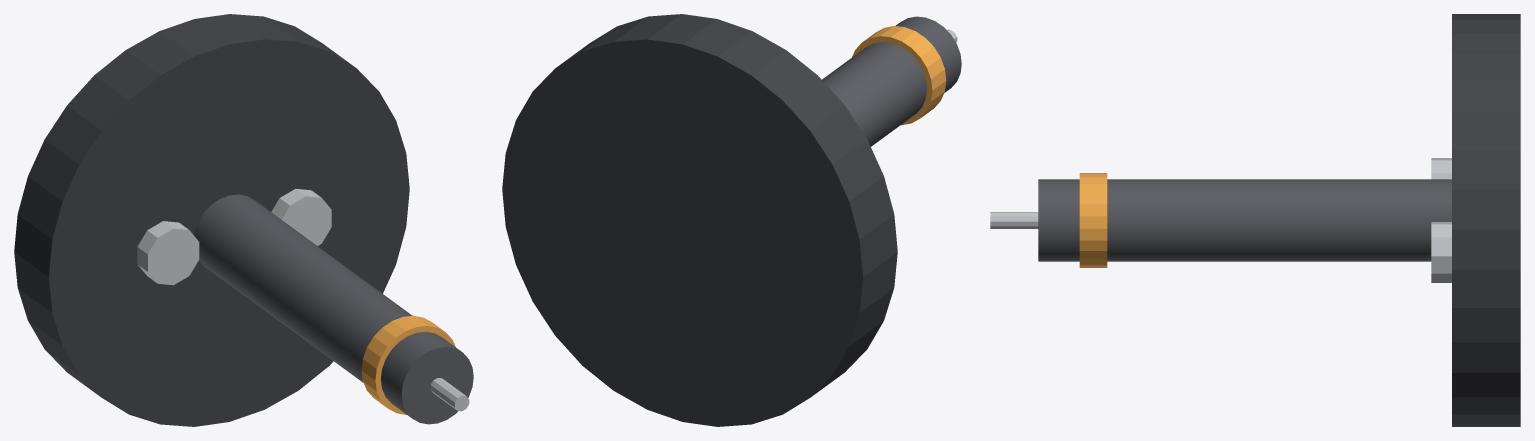
File: POST2.glb
3 views of the same model, side by side, from view 1: azimuth 30°, elevation 25°; view 2: azimuth 150°, elevation 25°; view 3: azimuth 270°, elevation 25° (orthographic).
Visible parts, largest first — view 1: POST2_base, POST2_post, POST2_bscrew, POST2_index, POST2_bscrew.001, POST2_pin; view 2: POST2_base, POST2_post, POST2_index; view 3: POST2_post, POST2_base, POST2_index, POST2_bscrew.001, POST2_pin.
Part boxes in pixels (left/top/right/bottom): POST2_base: left=14, top=14, right=409, bottom=426; POST2_post: left=194, top=194, right=473, bottom=424; POST2_bscrew: left=137, top=221, right=199, bottom=285; POST2_index: left=361, top=315, right=455, bottom=414; POST2_bscrew.001: left=271, top=188, right=331, bottom=245; POST2_pin: left=430, top=378, right=469, bottom=411; POST2_base: left=502, top=14, right=897, bottom=426; POST2_post: left=822, top=16, right=961, bottom=146; POST2_index: left=852, top=26, right=946, bottom=125; POST2_post: left=1038, top=179, right=1451, bottom=261; POST2_base: left=1452, top=14, right=1520, bottom=426; POST2_index: left=1079, top=173, right=1107, bottom=267; POST2_bscrew.001: left=1431, top=222, right=1451, bottom=282; POST2_pin: left=990, top=212, right=1038, bottom=228.
Size of the model in its own units: 0.06 by 0.06 by 0.077.
